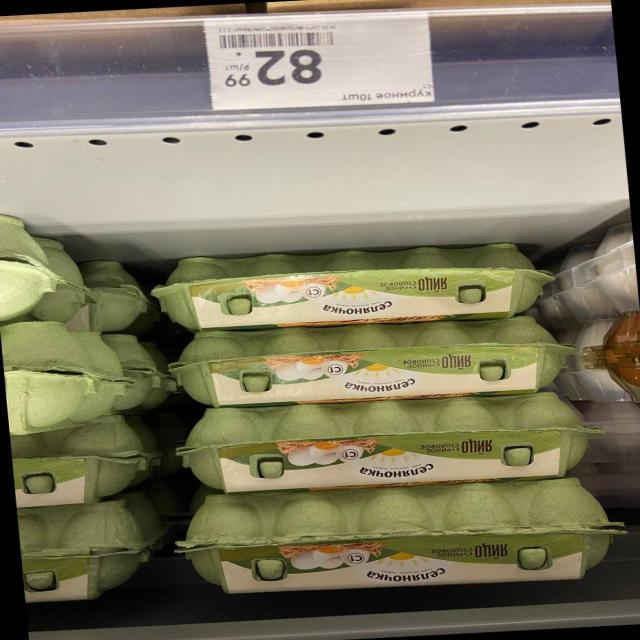organic waste: (171, 477, 633, 604), (173, 392, 603, 498), (148, 235, 555, 338), (166, 312, 573, 415), (16, 491, 162, 610), (1, 320, 125, 441), (10, 420, 157, 511)
